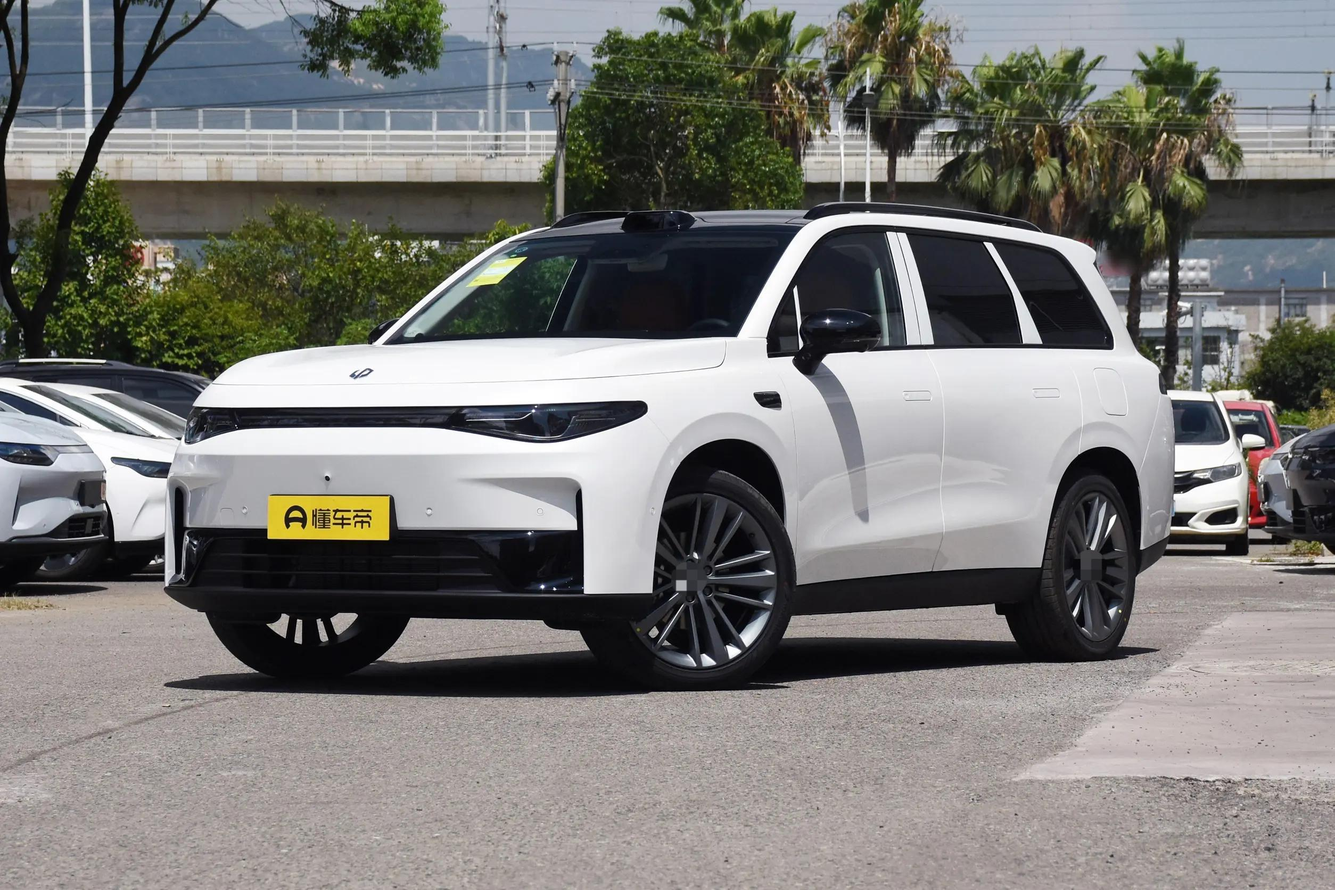LEAPMOTOR: (349, 368, 374, 381)
